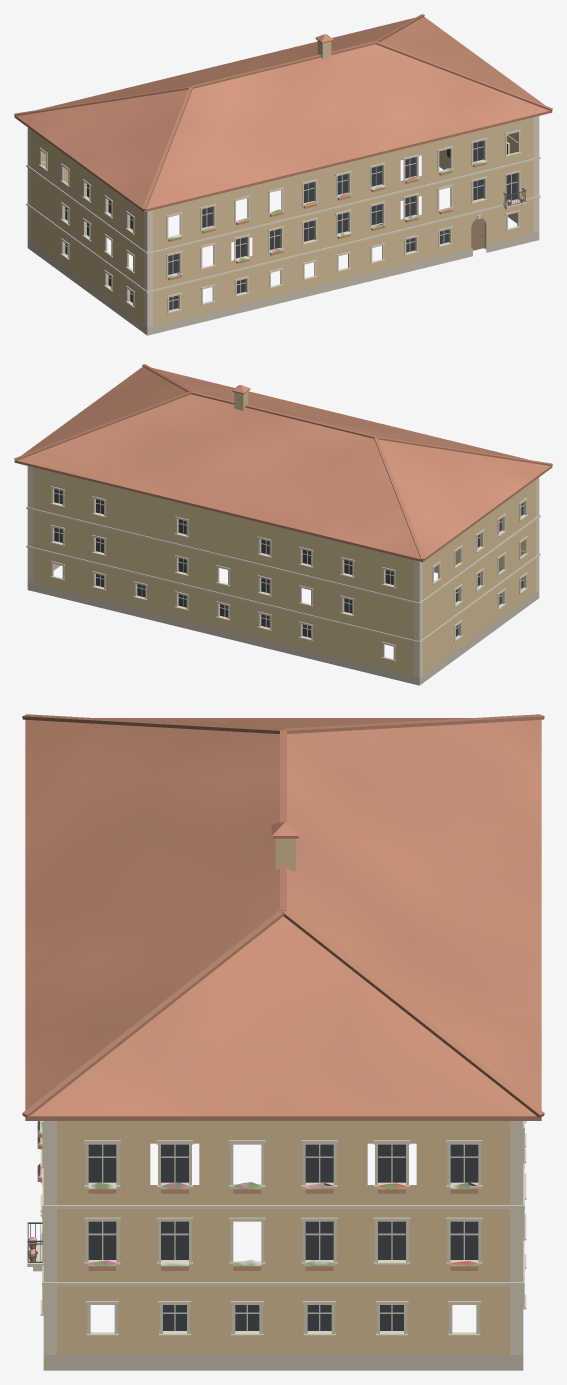
The model's file is SM_BM_BE_5_Villa.glb.
3 renders of one model, top to bottom at view 1: azimuth 30°, elevation 25°; view 2: azimuth 150°, elevation 25°; view 3: azimuth 270°, elevation 25°, orthographic. The views are drawn at different scales.
Parts seen in each view (by area): view 1: SM_BM_BE_5_Villa; view 2: SM_BM_BE_5_Villa; view 3: SM_BM_BE_5_Villa.
Part boxes in pixels (box(x1,y1,x2,y2)): SM_BM_BE_5_Villa: box(14, 14, 552, 335); SM_BM_BE_5_Villa: box(14, 364, 552, 685); SM_BM_BE_5_Villa: box(22, 714, 544, 1370).
Size of the model in its own units: 35.62 by 16.5 by 19.62.
